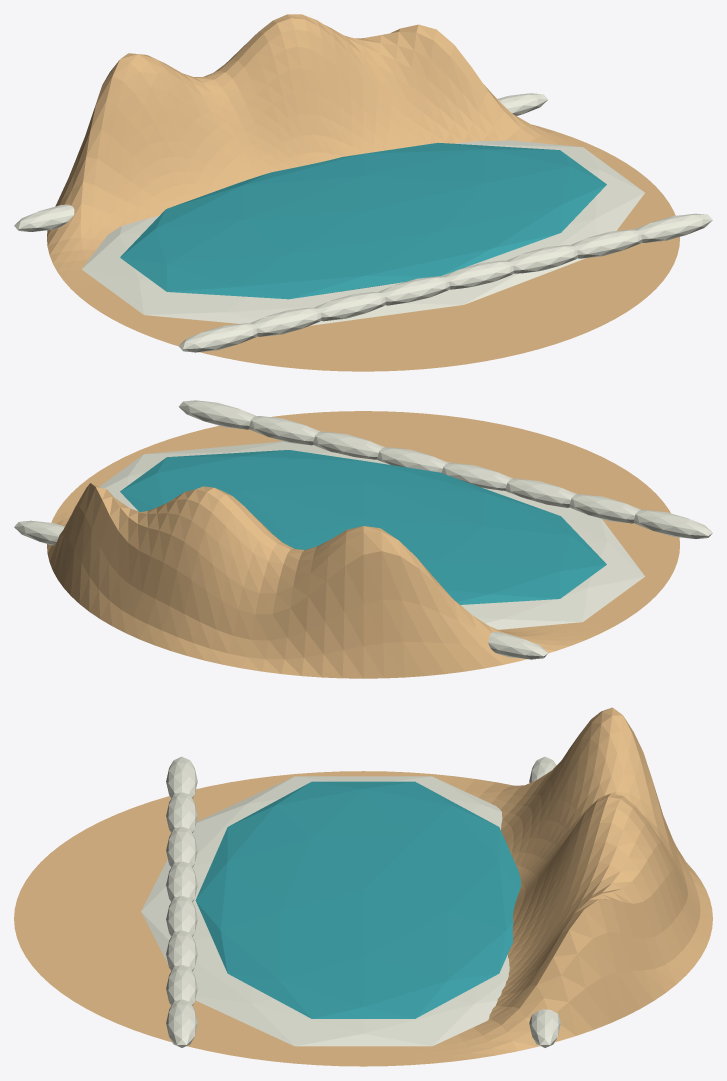
Rendered from FEATURE_DEAD_SEA.fbx.
3 renders of one model, top to bottom at view 1: azimuth 30°, elevation 25°; view 2: azimuth 150°, elevation 25°; view 3: azimuth 270°, elevation 25°, orthographic. The views are drawn at different scales.
Parts seen in each view (by area): view 1: Desert_escarpment, Brine, Salt_shore, Salt_crust, Salt_crust.007, Salt_crust.001, Salt_crust.006, Salt_crust.002, Salt_crust.005, Salt_crust.003, Salt_crust.004, Salt_crust.008 (+1 smaller); view 2: Desert_escarpment, Brine, Salt_shore, Salt_crust, Salt_crust.007, Salt_crust.006, Salt_crust.001, Salt_crust.002, Salt_crust.005, Salt_crust.003, Salt_crust.004, Salt_crust.008 (+1 smaller); view 3: Desert_escarpment, Brine, Salt_shore, Salt_crust.007, Salt_crust, Salt_crust.005, Salt_crust.004, Salt_crust.006, Salt_crust.002, Salt_crust.003, Salt_crust.001, Salt_crust.015.
Boxes of the visible parts, box(x1,y1,x2,y2) form: Desert_escarpment: box(47, 14, 679, 371); Brine: box(120, 142, 606, 299); Salt_shore: box(82, 140, 644, 325); Salt_crust: box(178, 323, 257, 352); Salt_crust.007: box(635, 213, 712, 242); Salt_crust.001: box(250, 307, 321, 336); Salt_crust.006: box(571, 229, 642, 258); Salt_crust.002: box(314, 292, 385, 321); Salt_crust.005: box(507, 245, 577, 273); Salt_crust.003: box(378, 276, 449, 305); Salt_crust.004: box(442, 260, 513, 289); Salt_crust.008: box(14, 204, 74, 231); Desert_escarpment: box(47, 411, 679, 678); Brine: box(120, 450, 606, 604); Salt_shore: box(99, 441, 644, 629); Salt_crust: box(634, 509, 712, 538); Salt_crust.007: box(178, 400, 256, 429); Salt_crust.006: box(249, 416, 320, 445); Salt_crust.001: box(569, 494, 640, 523); Salt_crust.002: box(505, 478, 576, 507); Salt_crust.005: box(313, 431, 384, 459); Salt_crust.003: box(441, 463, 512, 490); Salt_crust.004: box(377, 447, 448, 472); Salt_crust.008: box(488, 632, 548, 659); Desert_escarpment: box(14, 707, 712, 1066); Brine: box(195, 781, 520, 1018); Salt_shore: box(141, 776, 509, 1046); Salt_crust.007: box(166, 999, 197, 1047); Salt_crust: box(166, 756, 197, 798); Salt_crust.005: box(166, 930, 197, 970); Salt_crust.004: box(166, 896, 197, 936); Salt_crust.006: box(166, 965, 197, 1005); Salt_crust.002: box(166, 827, 197, 867); Salt_crust.003: box(166, 861, 197, 901); Salt_crust.001: box(166, 792, 197, 832); Salt_crust.015: box(529, 1009, 560, 1047).
Bounding box in the file's own units: 154 × 35.33 × 154.
